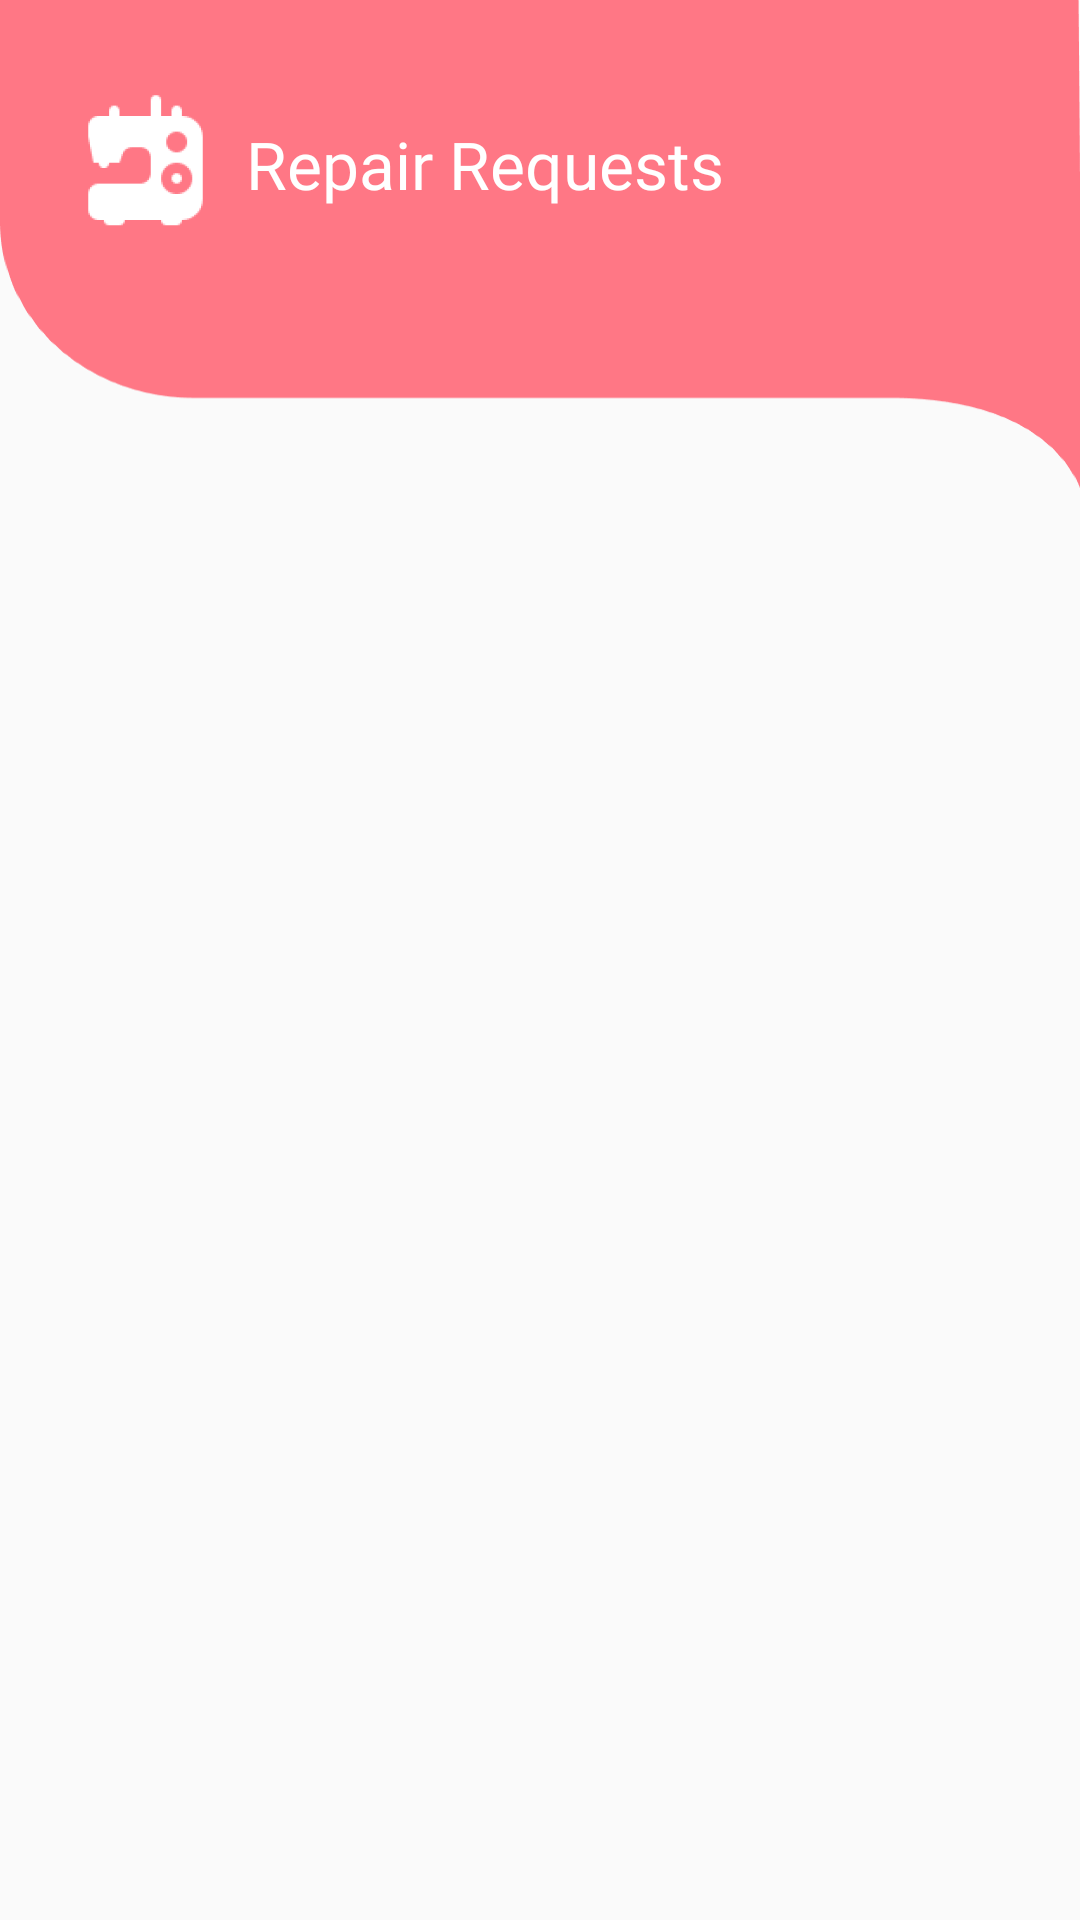

Locate icon controls on the screen. Image size 1080px x 1920px, boxes as bbox=(x1, y1, x2, y2).
sewing machine: bbox=(88, 95, 203, 226)
